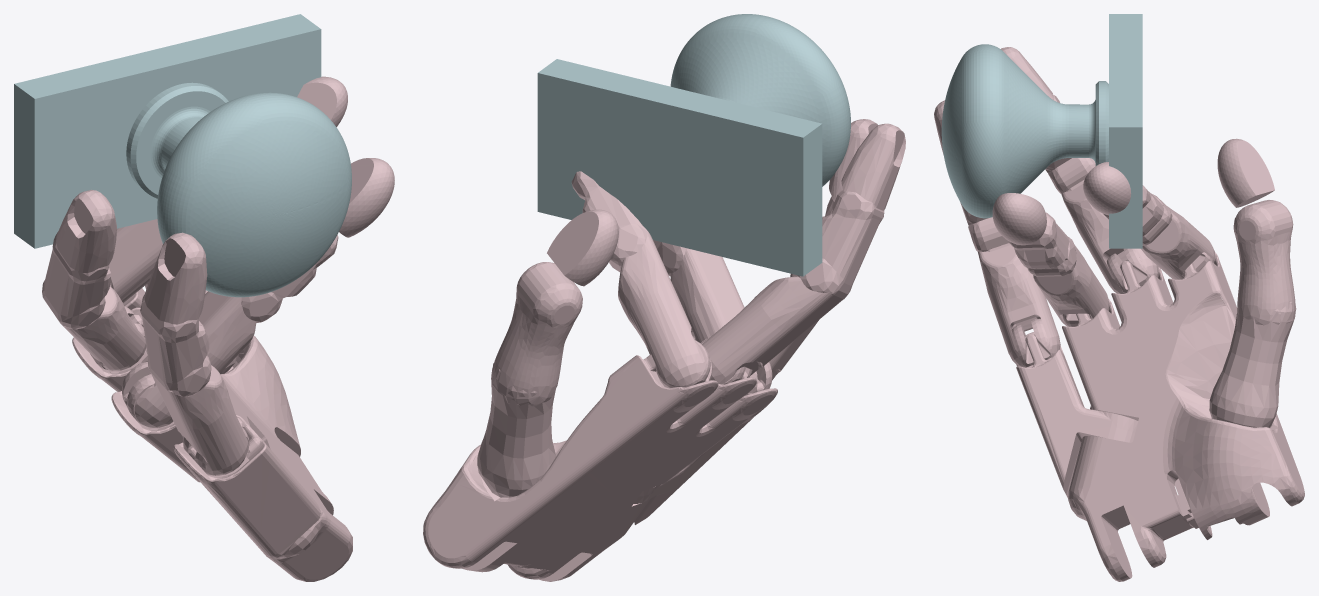
The model's file is grasp_2.glb.
3 views of the same model, side by side, from view 1: azimuth 30°, elevation 25°; view 2: azimuth 150°, elevation 25°; view 3: azimuth 270°, elevation 25° (orthographic). The views are drawn at different scales.
Visible parts, largest first — view 1: world; view 2: world; view 3: world.
Boxes of the visible parts, x1,y1,x2,y2 form: world: (14, 14, 394, 581); world: (423, 14, 905, 581); world: (934, 14, 1304, 581).
Size of the model in its own units: 0.122 by 0.1935 by 0.1385.
